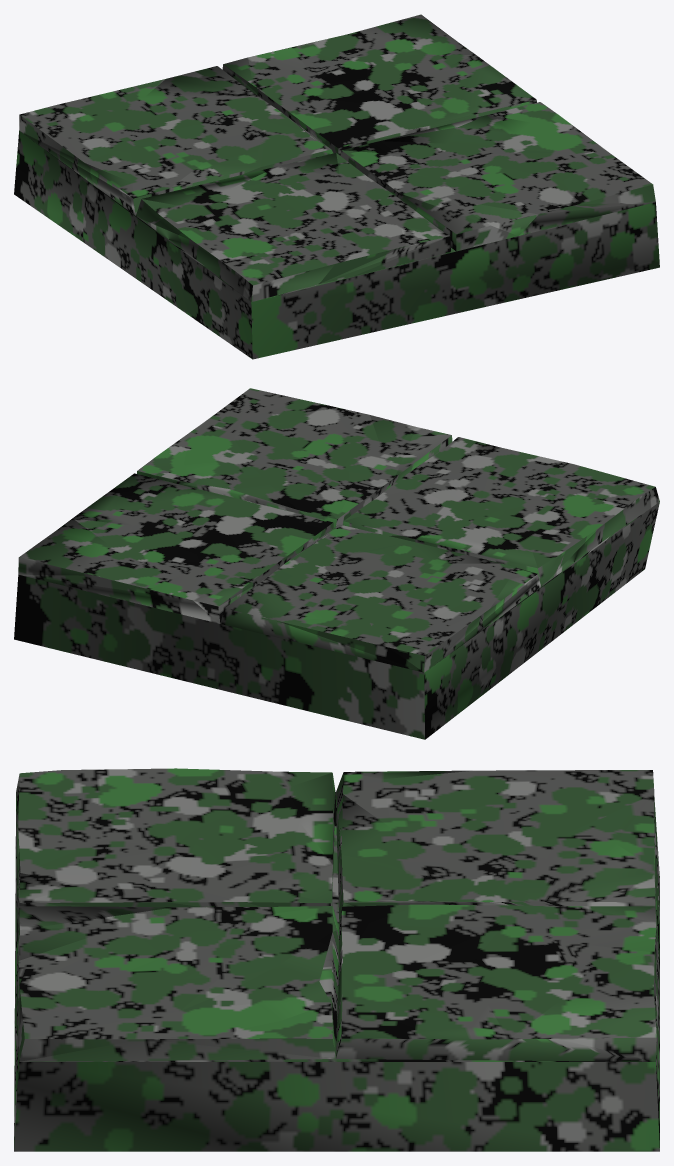
Rendered from floor_2x2.fbx.
The picture shows the model from 3 angles, top to bottom: view 1: azimuth 30°, elevation 25°; view 2: azimuth 150°, elevation 25°; view 3: azimuth 270°, elevation 25°; orthographic projection. The views are drawn at different scales.
Parts seen in each view (by area): view 1: Sewer Floor 2X2; view 2: Sewer Floor 2X2; view 3: Sewer Floor 2X2.
Boxes of the visible parts, x1,y1,x2,y2 form: Sewer Floor 2X2: [14, 14, 659, 359]; Sewer Floor 2X2: [14, 388, 659, 739]; Sewer Floor 2X2: [14, 768, 659, 1151].
Size of the model in its own units: 5000 by 955 by 5000.
1 material, 1 textured.
